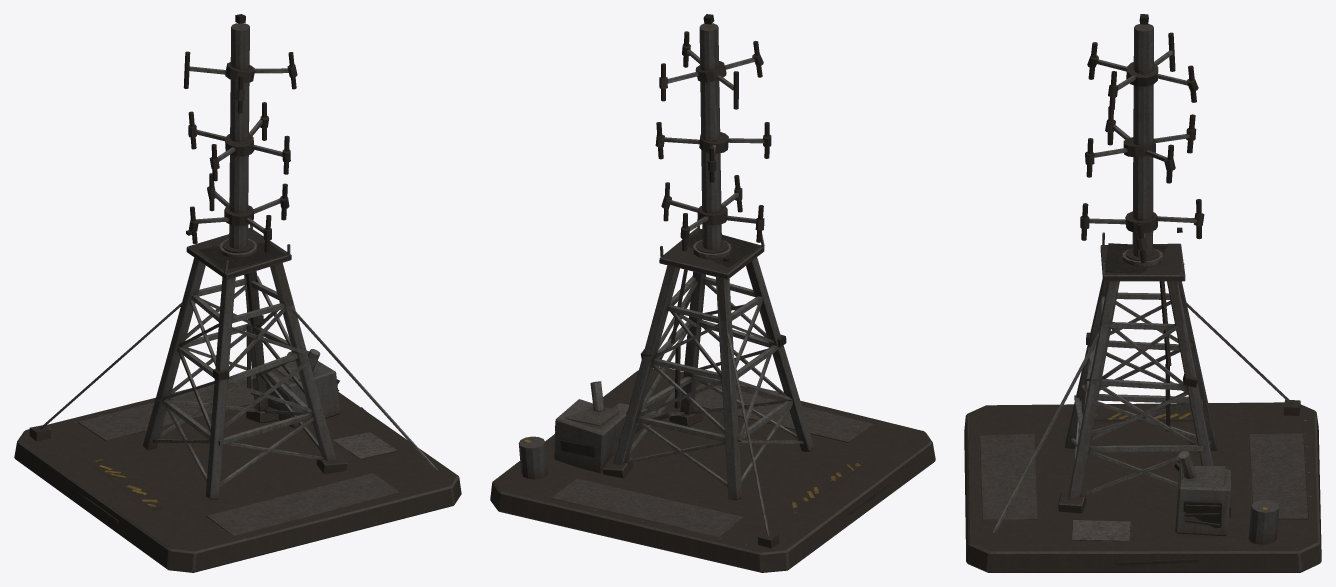
The model's file is chs_blackout_wreck.fbx.
3 renders of one model, left to right at view 1: azimuth 30°, elevation 25°; view 2: azimuth 150°, elevation 25°; view 3: azimuth 270°, elevation 25°, orthographic. The views are drawn at different scales.
Visible parts, largest first — view 1: base_bar, spine_bar; view 2: base_bar, spine_bar; view 3: base_bar, spine_bar.
Part boxes in pixels (bbox=[...]): base_bar: bbox=[14, 224, 461, 572]; spine_bar: bbox=[183, 14, 297, 253]; base_bar: bbox=[490, 219, 935, 572]; spine_bar: bbox=[655, 14, 771, 253]; base_bar: bbox=[964, 227, 1321, 572]; spine_bar: bbox=[1080, 14, 1204, 262].
Size of the model in its own units: 1588 by 2530 by 1561.
Materials: 2 (2 with a texture image).
